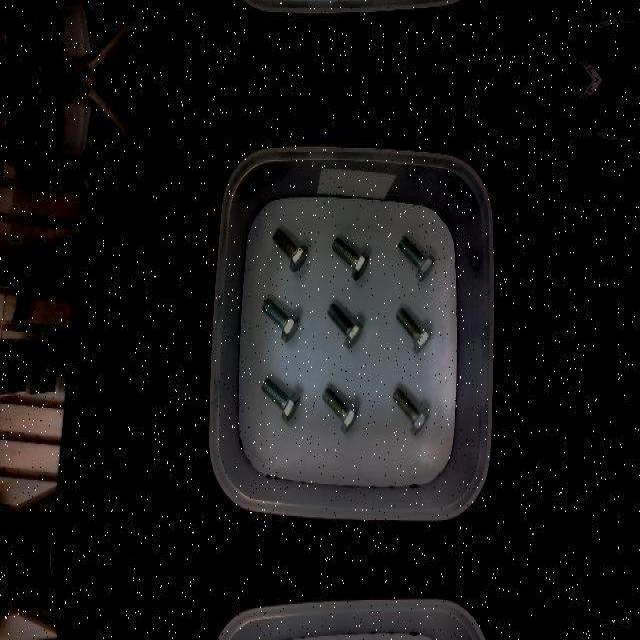screw: (393, 386, 430, 436), (261, 377, 300, 423), (261, 297, 299, 343), (327, 302, 364, 348), (395, 306, 432, 352), (322, 387, 359, 433), (331, 236, 369, 280), (398, 235, 434, 281), (272, 228, 309, 272)
